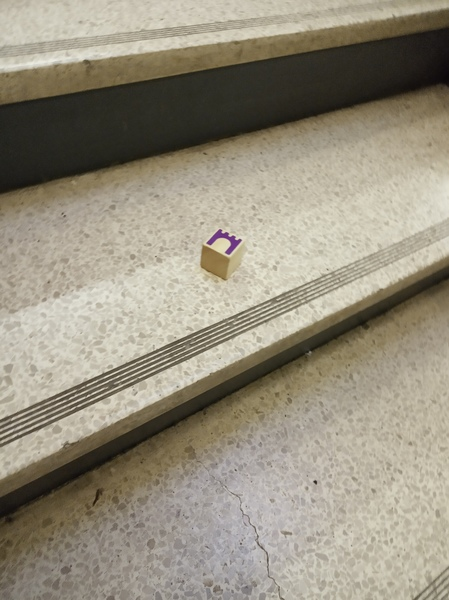violet: (197, 226, 246, 279)
